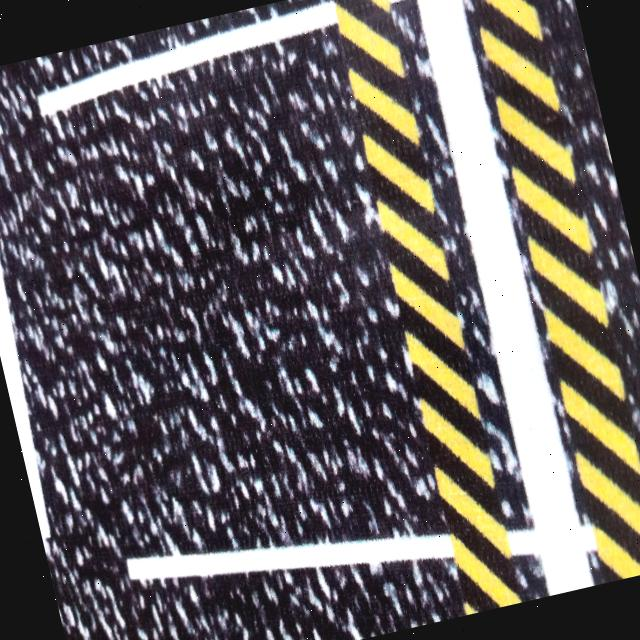slots: (60, 54, 429, 554)
